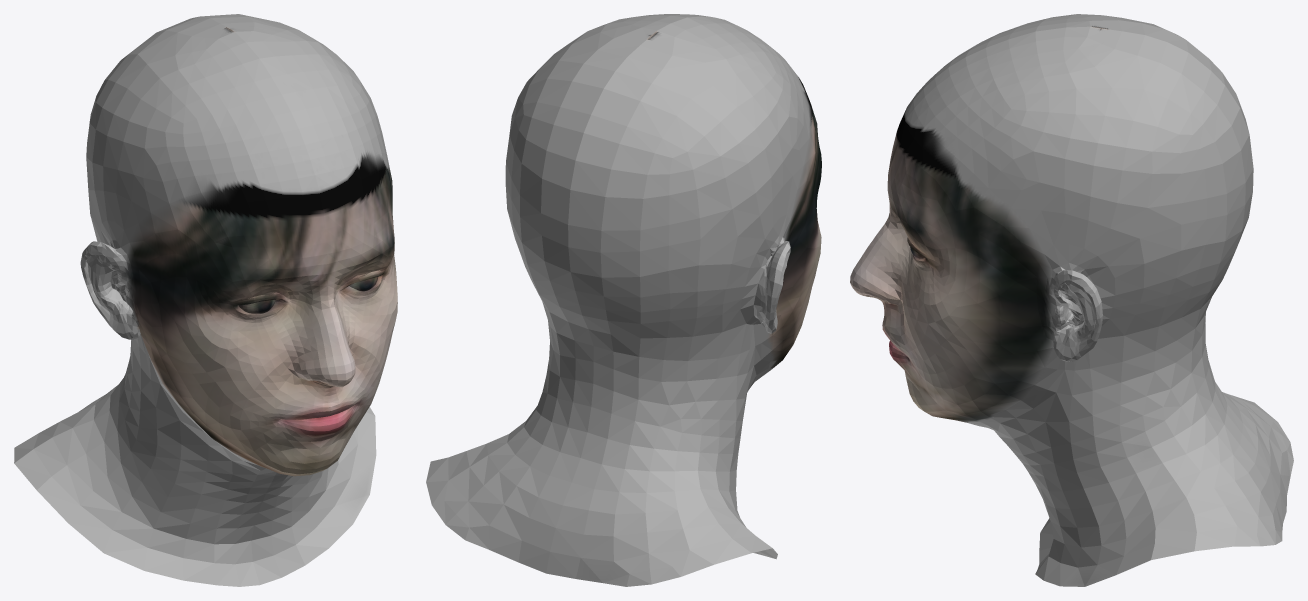
Rendered from kjwsadness-align-project.obj.
3 views of the same model, side by side, from view 1: azimuth 30°, elevation 25°; view 2: azimuth 150°, elevation 25°; view 3: azimuth 270°, elevation 25° (orthographic).
Size of the model in its own units: 0.2116 by 0.3247 by 0.2432.
1 material, 1 textured.
